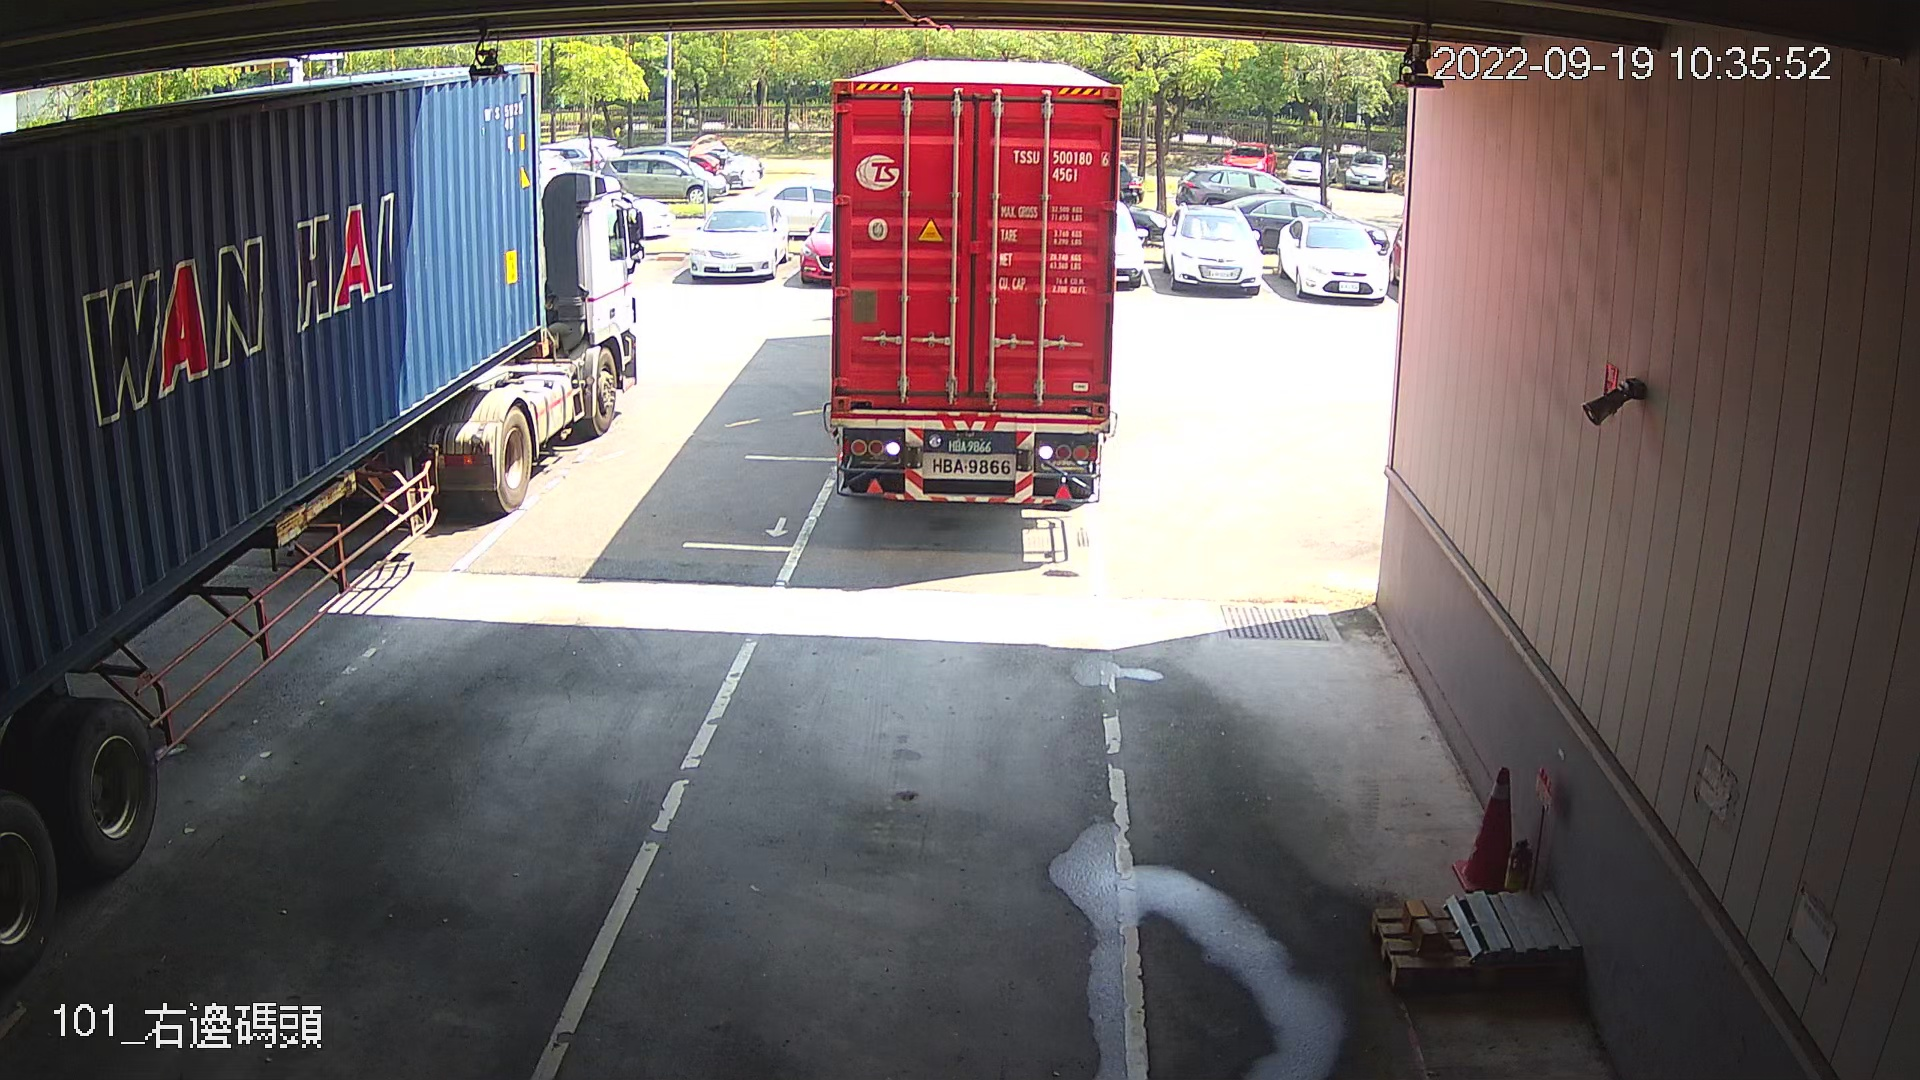container: (1006, 140, 1113, 189)
